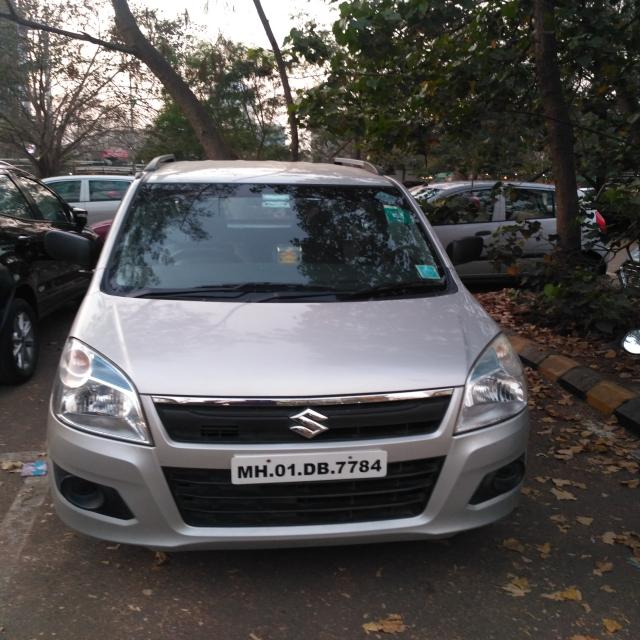Number-Plate: (237, 453, 386, 484)
